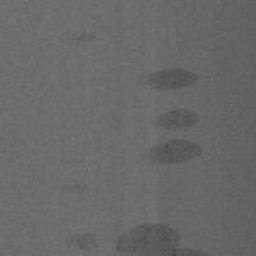Oil spot: (111, 221, 215, 256), (143, 137, 204, 166), (142, 65, 201, 92), (150, 106, 201, 132), (59, 230, 102, 256), (56, 29, 100, 49), (59, 177, 92, 197)
